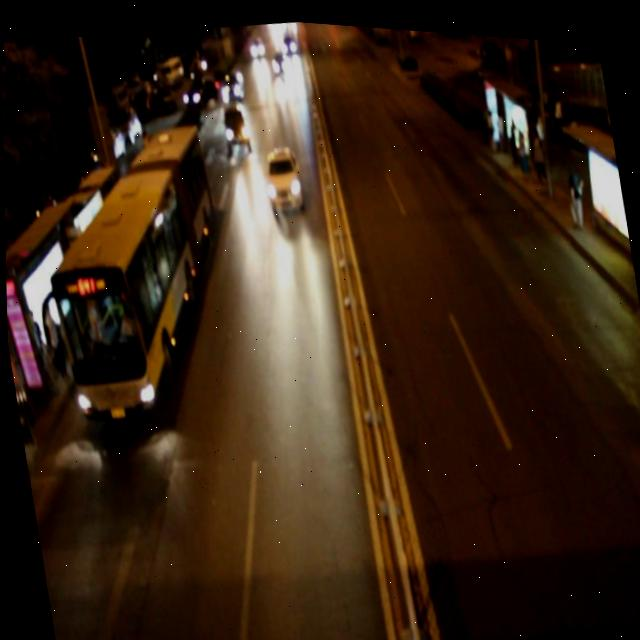car: (259, 141, 305, 213), (216, 62, 248, 103)
truck: (217, 96, 252, 147)
van: (23, 109, 238, 427)
